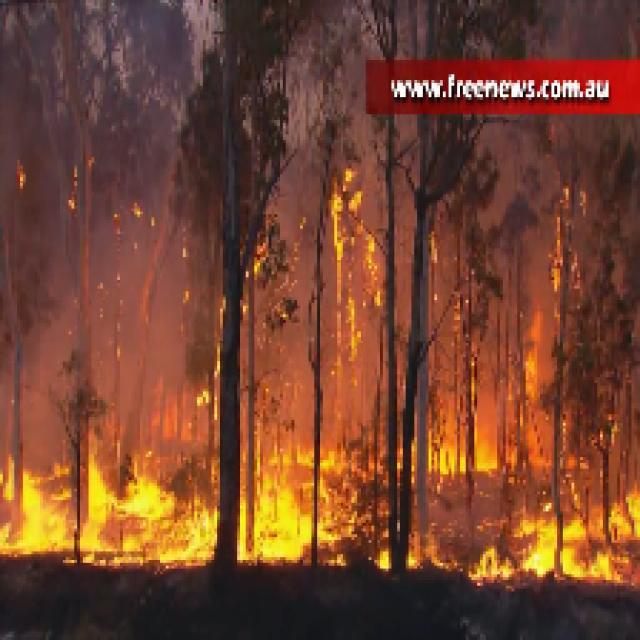Fire: (3, 454, 223, 566), (237, 443, 349, 560), (323, 157, 380, 360), (520, 488, 640, 574)
Smoke: (31, 20, 220, 386), (379, 122, 552, 272)
